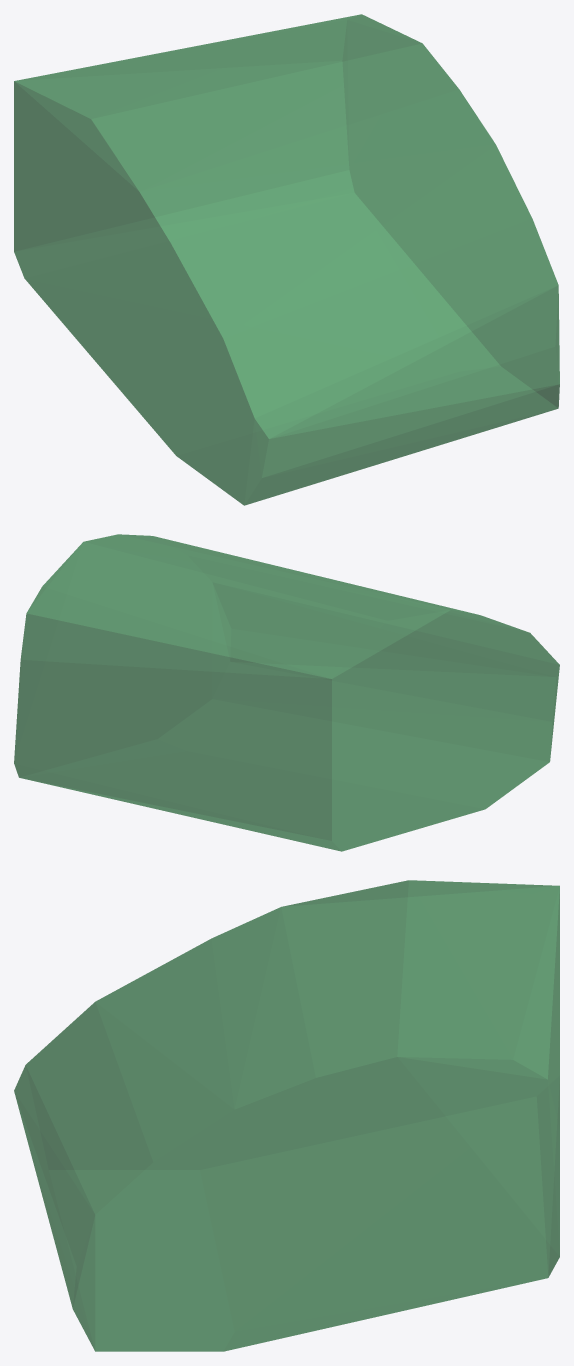
3 views of the same model, one above another, from view 1: azimuth 30°, elevation 25°; view 2: azimuth 150°, elevation 25°; view 3: azimuth 270°, elevation 25° (orthographic). The views are drawn at different scales.
Parts seen in each view (by area): view 1: Shape_IndexedFaceSet.008_Shape_IndexedFaceSet.819; view 2: Shape_IndexedFaceSet.008_Shape_IndexedFaceSet.819; view 3: Shape_IndexedFaceSet.008_Shape_IndexedFaceSet.819.
Boxes of the visible parts, x1=… form: Shape_IndexedFaceSet.008_Shape_IndexedFaceSet.819: x1=14, y1=14, x2=559, y2=505; Shape_IndexedFaceSet.008_Shape_IndexedFaceSet.819: x1=14, y1=534, x2=559, y2=851; Shape_IndexedFaceSet.008_Shape_IndexedFaceSet.819: x1=14, y1=880, x2=559, y2=1351.
Bounding box in the file's own units: 0.098 × 0.0741 × 0.1244.
